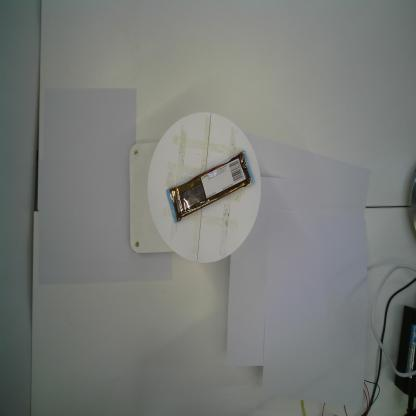Chocolate: (166, 148, 256, 224)
